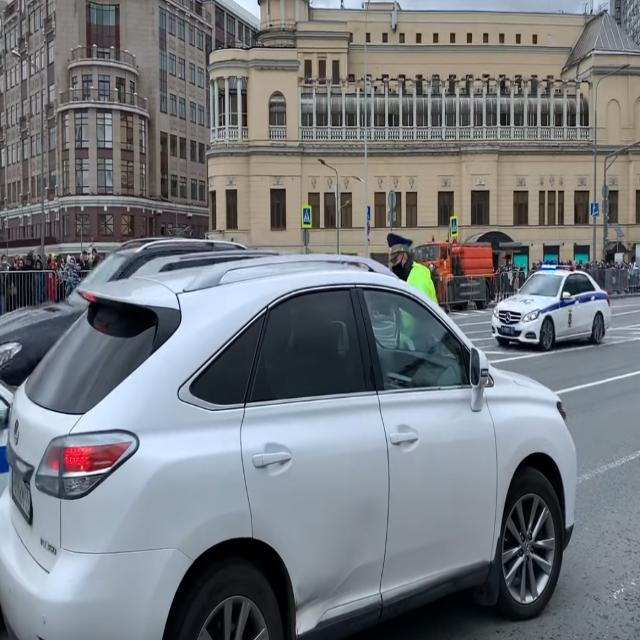non emergency car: (3, 248, 581, 640), (415, 239, 496, 312)
police car: (489, 261, 618, 356)
